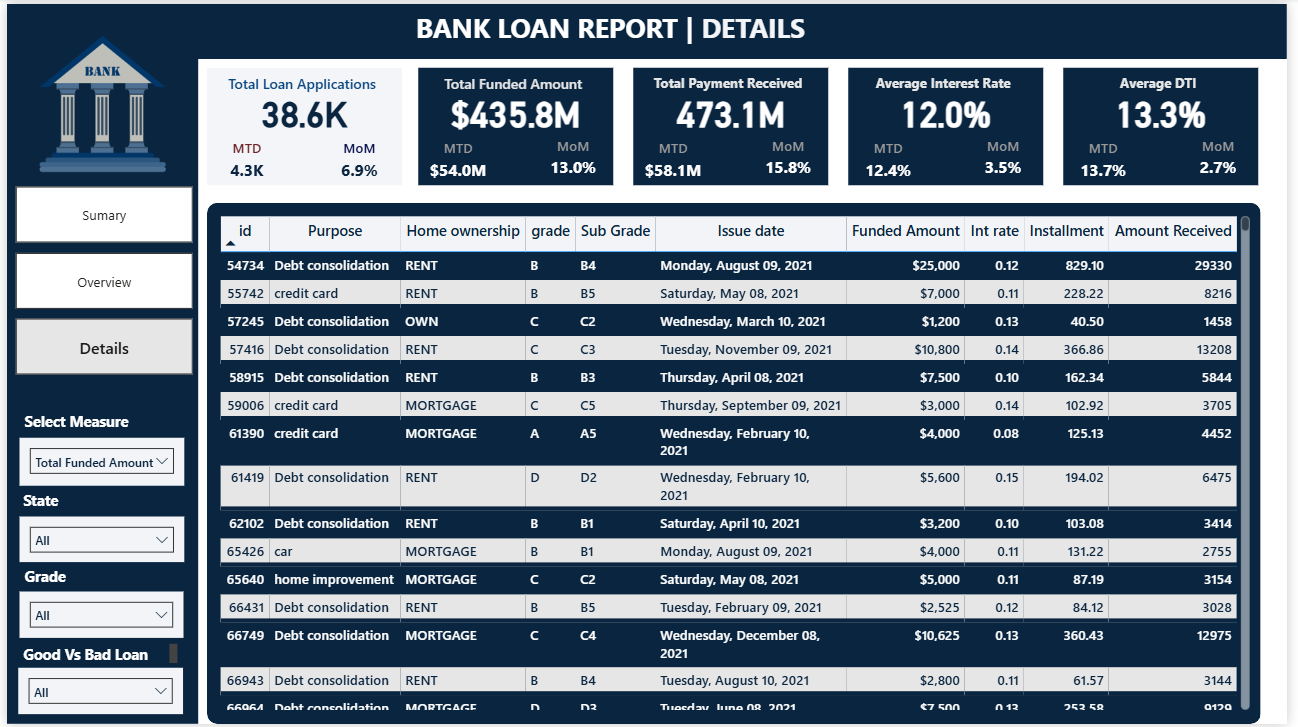

Layout of this report page (visuals, bound fields, positions):
{"tool":"powerbi","page":{"name":"Details","canvas":[1280,720],"ordinal":2},"visuals":[{"type":"shape","box":[0,55,191.2,665],"z":0},{"type":"shape","box":[0,0,1279.8,55],"z":1000},{"type":"textbox","box":[403.7,0,472.4,55.2],"z":2000},{"type":"shape","box":[200,63.8,195,117.5],"z":3000},{"type":"card","fields":{"Values":["financial_loan.Total Loan Applications"]},"box":[197.5,80,200,55],"z":4000},{"type":"textbox","box":[197.5,65,195,30],"z":5000},{"type":"card","title":"MTD","fields":{"Values":["financial_loan.MTD Loan Applications"]},"box":[200,135,80,48.8],"z":6000},{"type":"card","title":"MoM","fields":{"Values":["financial_loan.MoM Loan Applications"]},"box":[312.5,135,80,48.8],"z":7000},{"type":"shape","box":[411.2,63.8,195,117.5],"z":8000},{"type":"card","fields":{"Values":["financial_loan.Total Funded Amount"]},"box":[408.8,80,200,55],"z":9000},{"type":"textbox","box":[408.8,65,195,30],"z":10000},{"type":"card","title":"MTD","fields":{"Values":["financial_loan.MTD Funded Amount"]},"box":[411.2,135,80,48.8],"z":11000},{"type":"card","title":"MoM","fields":{"Values":["financial_loan.MoM Funded Amount"]},"box":[526.2,132.5,80,48.8],"z":12000},{"type":"shape","box":[626.4,63.9,195,117.5],"z":13000},{"type":"card","fields":{"Values":["financial_loan.Total Amount Received"]},"box":[623.9,80.2,200,55],"z":14000},{"type":"textbox","box":[623.9,65.2,195,30],"z":15000},{"type":"card","title":"MTD","fields":{"Values":["financial_loan.MTD Total Received Amount"]},"box":[626.4,135.2,80,48.8],"z":16000},{"type":"card","title":"MoM","fields":{"Values":["financial_loan.MoM Total Received Amount"]},"box":[741.4,132.7,80,48.8],"z":17000},{"type":"shape","box":[841.6,64.1,195,117.5],"z":18000},{"type":"card","fields":{"Values":["financial_loan.Avg Interest Rate"]},"box":[839.1,80.4,200,55],"z":19000},{"type":"textbox","box":[839.1,65.4,195,30],"z":20000},{"type":"card","title":"MTD","fields":{"Values":["financial_loan.MTD Int Rate"]},"box":[841.6,135.4,80,48.8],"z":21000},{"type":"card","title":"MoM","fields":{"Values":["financial_loan.MoM Avg Int Rate"]},"box":[956.6,132.9,80,48.8],"z":22000},{"type":"shape","box":[1055.7,63.3,195,117.5],"z":23000},{"type":"card","fields":{"Values":["financial_loan.Avg DTI"]},"box":[1053.2,79.6,200,55],"z":24000},{"type":"textbox","box":[1053.2,64.6,195,30],"z":25000},{"type":"card","title":"MTD","fields":{"Values":["financial_loan.MTD Avg DTI"]},"box":[1055.7,134.6,80,48.8],"z":26000},{"type":"shape","box":[200,198.8,1053.8,521.2],"z":27000},{"type":"card","title":"MoM","fields":{"Values":["financial_loan.MoM Avg DTI"]},"box":[1170.7,132.1,80,48.8],"z":28000},{"type":"slicer","fields":{"Values":["financial_loan.address_state"]},"box":[12.5,512.1,164.4,45.4],"z":29000},{"type":"textbox","box":[11.3,481.4,164.4,30.7],"z":30000},{"type":"slicer","fields":{"Values":["financial_loan.grade"]},"box":[12.8,588,163.8,46.2],"z":31000},{"type":"textbox","box":[12.8,558,163.8,30],"z":32000},{"type":"slicer","fields":{"Values":["financial_loan.Good VS Bad Loan"]},"box":[11.3,664.2,164.4,46.6],"z":33000},{"type":"textbox","box":[11.3,634.8,164.4,29.4],"z":34000},{"type":"slicer","fields":{"Values":["Select Measure.Select Measure"]},"box":[12.5,433.6,164.4,47.9],"z":35000},{"type":"textbox","box":[12.5,402.9,164.4,30.7],"z":36000},{"type":"tableEx","fields":{"Values":["financial_loan.id","financial_loan.purpose","financial_loan.home_ownership","financial_loan.grade","financial_loan.sub_grade","financial_loan.issue_date","financial_loan.Total Funded Amount","Sum(financial_loan.int_rate)","Sum(financial_loan.installment)","financial_loan.Total Amount Received"]},"box":[207.5,207.5,1040,503.8],"z":37000},{"type":"image","box":[0,0,191.2,198.8],"z":37001},{"type":"pageNavigator","box":[8.8,182.5,177.5,190],"z":37002}]}

Visuals, with their boxes in screenshot pixels (x1, y1, x2, y2), scaled from the page's 1280x720 canvas onto the 1298x727 screenshot:
shape: rect(0, 56, 194, 726)
shape: rect(0, 0, 1297, 56)
textbox: rect(409, 0, 888, 56)
shape: rect(203, 64, 401, 183)
card - financial_loan.Total Loan Applications: rect(200, 81, 403, 136)
textbox: rect(200, 66, 398, 96)
"MTD" card: rect(203, 136, 284, 186)
"MoM" card: rect(317, 136, 398, 186)
shape: rect(417, 64, 615, 183)
card - financial_loan.Total Funded Amount: rect(415, 81, 617, 136)
textbox: rect(415, 66, 612, 96)
"MTD" card: rect(417, 136, 498, 186)
"MoM" card: rect(534, 134, 615, 183)
shape: rect(635, 65, 833, 183)
card - financial_loan.Total Amount Received: rect(633, 81, 835, 137)
textbox: rect(633, 66, 830, 96)
"MTD" card: rect(635, 137, 716, 186)
"MoM" card: rect(752, 134, 833, 183)
shape: rect(853, 65, 1051, 183)
card - financial_loan.Avg Interest Rate: rect(851, 81, 1054, 137)
textbox: rect(851, 66, 1049, 96)
"MTD" card: rect(853, 137, 935, 186)
"MoM" card: rect(970, 134, 1051, 183)
shape: rect(1071, 64, 1268, 183)
card - financial_loan.Avg DTI: rect(1068, 80, 1271, 136)
textbox: rect(1068, 65, 1266, 96)
"MTD" card: rect(1071, 136, 1152, 185)
shape: rect(203, 201, 1271, 726)
"MoM" card: rect(1187, 133, 1268, 183)
slicer - financial_loan.address_state: rect(13, 517, 179, 563)
textbox: rect(11, 486, 178, 517)
slicer - financial_loan.grade: rect(13, 594, 179, 640)
textbox: rect(13, 563, 179, 594)
slicer - financial_loan.Good VS Bad Loan: rect(11, 671, 178, 718)
textbox: rect(11, 641, 178, 671)
slicer - Select Measure.Select Measure: rect(13, 438, 179, 486)
textbox: rect(13, 407, 179, 438)
tableEx - financial_loan.id x financial_loan.purpose: rect(210, 210, 1265, 718)
image: rect(0, 0, 194, 201)
pageNavigator: rect(9, 184, 189, 376)
